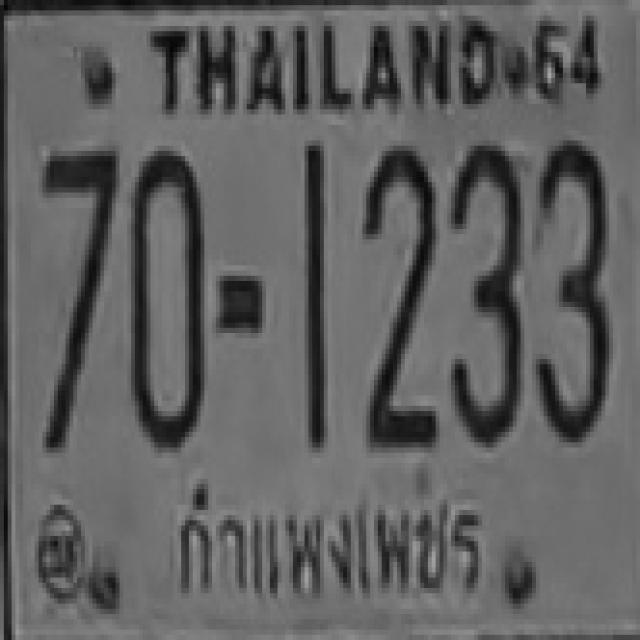0: (127, 148, 201, 445)
1: (302, 140, 326, 396)
2: (360, 143, 434, 409)
3: (447, 140, 521, 442), (532, 138, 605, 440)
7: (38, 146, 116, 427), (38, 146, 116, 348), (38, 146, 116, 328)
KamphaengPhet: (164, 466, 497, 611)
